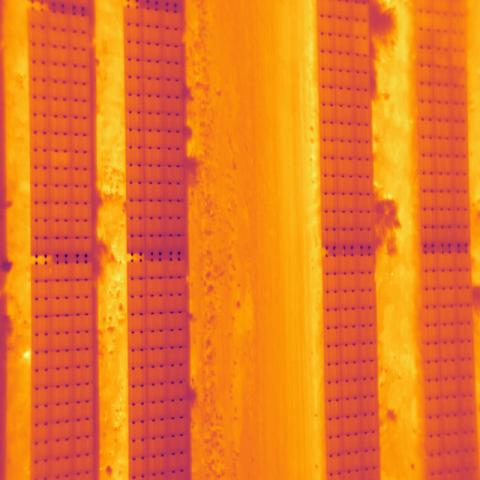fault: (51, 151, 70, 168)
